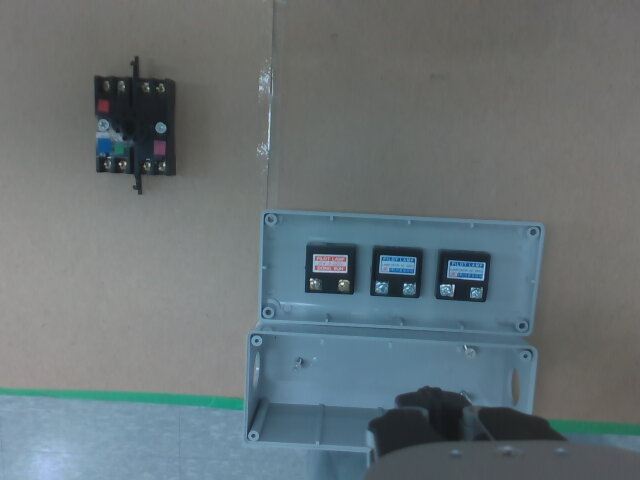L1(1): (309, 278, 322, 291)
L1(2): (337, 279, 350, 291)
L2(1): (375, 281, 388, 294)
L2(2): (403, 283, 415, 295)
L3(1): (440, 284, 454, 297)
L3(2): (470, 287, 482, 298)
